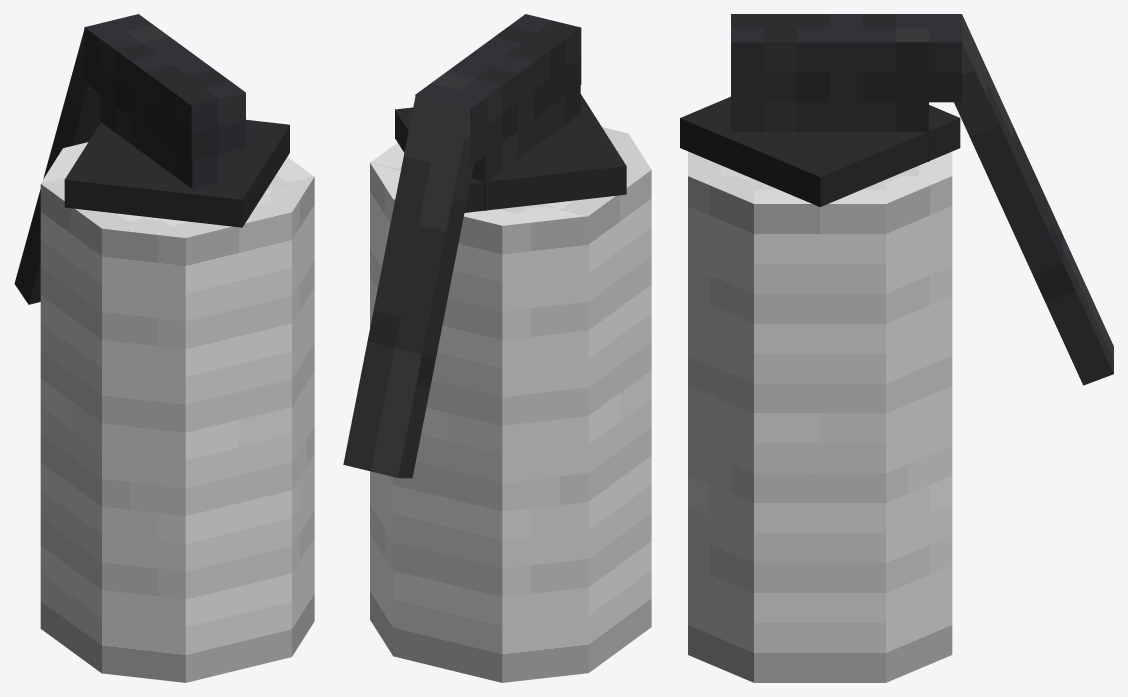
The model's file is smoke.gltf.
The picture shows the model from 3 angles, left to right: view 1: azimuth 30°, elevation 25°; view 2: azimuth 150°, elevation 25°; view 3: azimuth 270°, elevation 25°; orthographic projection. The views are drawn at different scales.
Visible parts, largest first — view 1: cube (×8); view 2: cube (×8); view 3: cube (×8).
Part boxes in pixels (x1,y1,x2,y2): cube (×8): [14, 14, 314, 682]; cube (×8): [343, 14, 651, 682]; cube (×8): [680, 14, 1113, 682].
Size of the model in its own units: 0.2652 by 0.625 by 0.4102.
2 materials, 2 textured.
